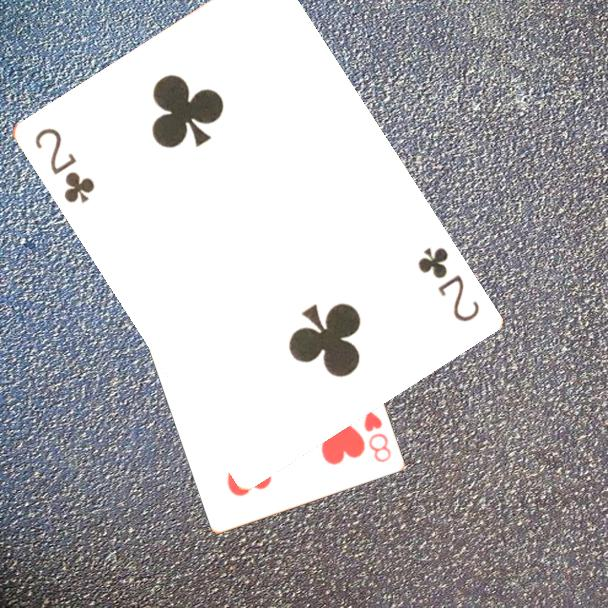c02: (413, 243, 482, 325), (30, 124, 97, 207)
h08: (361, 406, 394, 465)
